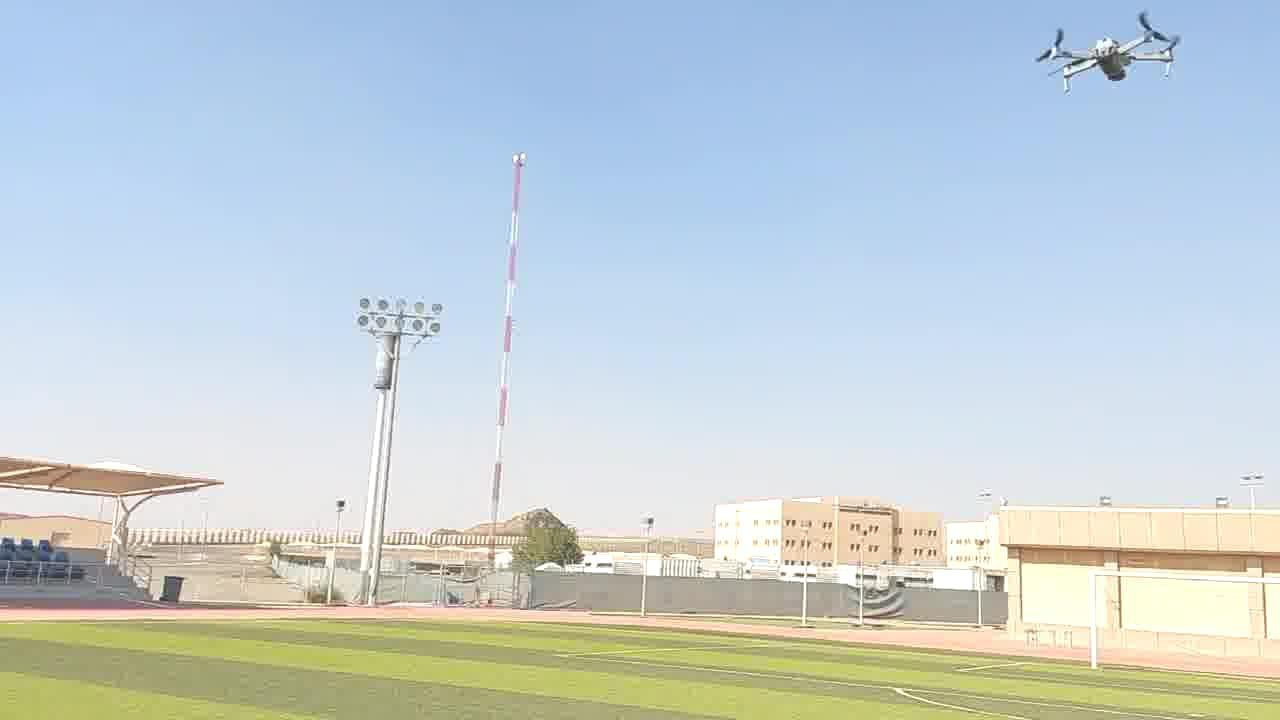drone: (1030, 8, 1183, 94)
